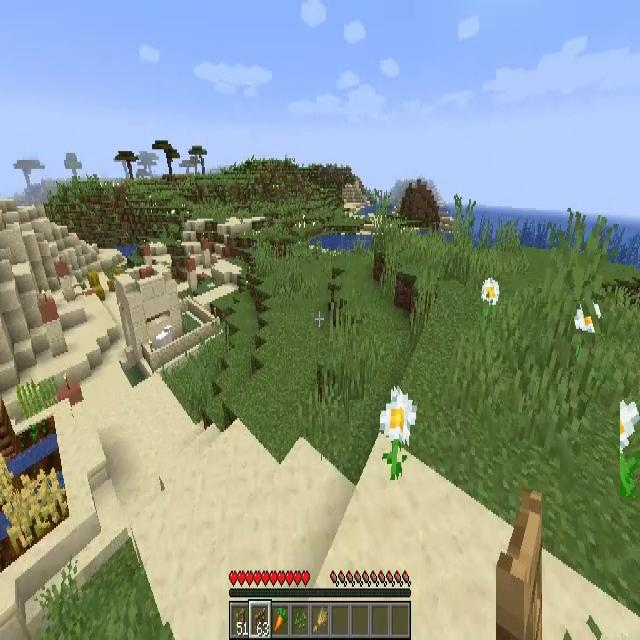flower: (380, 384, 418, 479), (620, 398, 640, 496), (574, 300, 602, 334), (482, 278, 499, 310)
sheep: (156, 326, 173, 348)
